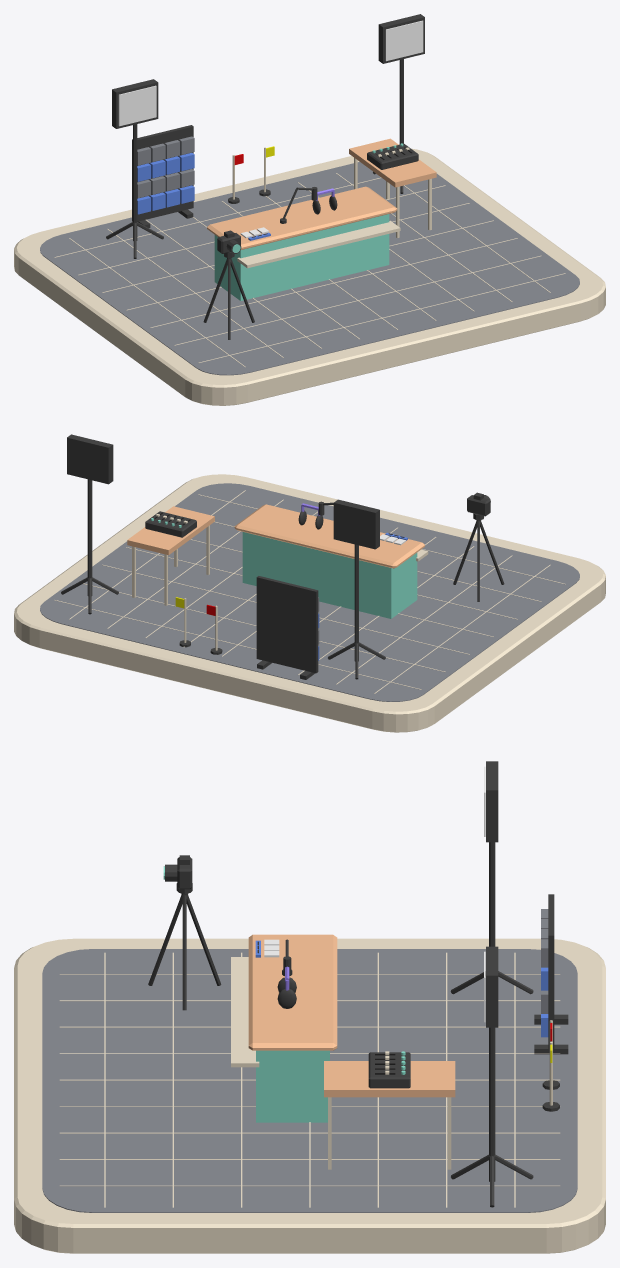
3 renders of one model, top to bottom at view 1: azimuth 30°, elevation 25°; view 2: azimuth 150°, elevation 25°; view 3: azimuth 270°, elevation 25°, orthographic. The views are drawn at different scales.
Visible parts, largest first — view 1: COM-02 Floor Surface, COM-01 Rounded Base Direct, Counter body, Countertop, Top, Visitor shelf, Panel, Diffuser, Diffuser.001, Audio console, Light panel, Light panel.001 (+1 smaller); view 2: COM-02 Floor Surface, COM-01 Rounded Base Direct, Counter body, Panel, Countertop, Top, Light panel, Light panel.001, Audio console, Pole.001, Pole; view 3: COM-02 Floor Surface, COM-01 Rounded Base Direct, Countertop, Counter body, Top, Visitor shelf, Audio console, Light panel, Light panel.001, Panel, Grout X.008, Grout X.006 (+4 smaller).
Boxes of the visible parts, bbox=[...] form: COM-02 Floor Surface: bbox=[40, 162, 579, 375]; COM-01 Rounded Base Direct: bbox=[14, 148, 605, 405]; Counter body: bbox=[214, 214, 389, 300]; Countertop: bbox=[207, 186, 397, 249]; Top: bbox=[349, 138, 436, 238]; Visitor shelf: bbox=[237, 220, 400, 268]; Panel: bbox=[132, 125, 193, 221]; Diffuser: bbox=[118, 85, 156, 126]; Diffuser.001: bbox=[385, 20, 423, 61]; Audio console: bbox=[367, 143, 418, 169]; Light panel: bbox=[112, 79, 158, 128]; Light panel.001: bbox=[378, 14, 424, 63]; COM-02 Floor Surface: bbox=[40, 483, 579, 701]; COM-01 Rounded Base Direct: bbox=[14, 474, 605, 732]; Counter body: bbox=[242, 532, 417, 618]; Panel: bbox=[256, 576, 318, 673]; Countertop: bbox=[234, 504, 424, 568]; Top: bbox=[127, 506, 214, 605]; Light panel: bbox=[333, 499, 379, 549]; Light panel.001: bbox=[67, 434, 113, 484]; Audio console: bbox=[145, 511, 196, 537]; Pole.001: bbox=[87, 479, 92, 595]; Pole: bbox=[354, 544, 358, 661]; COM-02 Floor Surface: bbox=[42, 949, 577, 1212]; COM-01 Rounded Base Direct: bbox=[14, 938, 605, 1253]; Countertop: bbox=[248, 934, 337, 1050]; Counter body: bbox=[256, 1050, 329, 1122]; Top: bbox=[324, 1061, 455, 1169]; Visitor shelf: bbox=[231, 957, 259, 1067]; Audio console: bbox=[368, 1052, 410, 1088]; Light panel: bbox=[486, 761, 498, 842]; Light panel.001: bbox=[486, 946, 498, 1027]; Panel: bbox=[548, 894, 554, 1051]; Grout X.008: bbox=[60, 1185, 559, 1186]; Grout X.006: bbox=[59, 1132, 560, 1133].
Bounding box in the file's own units: 6 × 2.5 × 5.2.
Materials: 1 (1 with a texture image).
